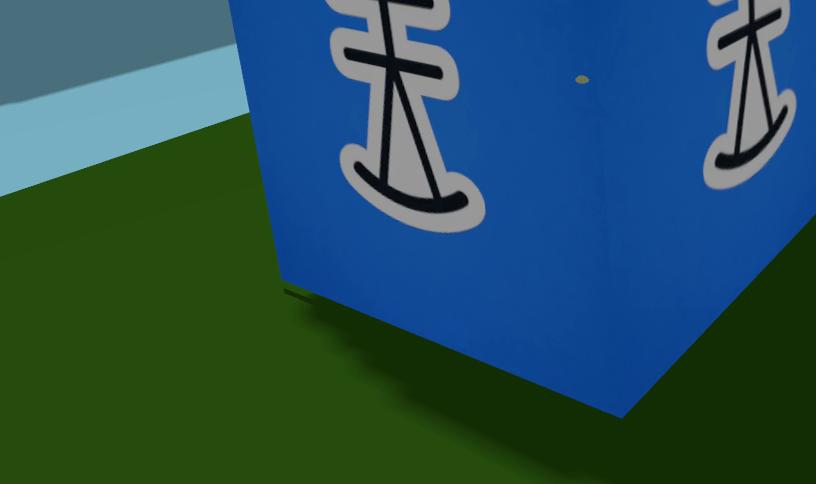KFS_REAL: (0, 0, 816, 483), (227, 0, 816, 414), (704, 0, 795, 189)
